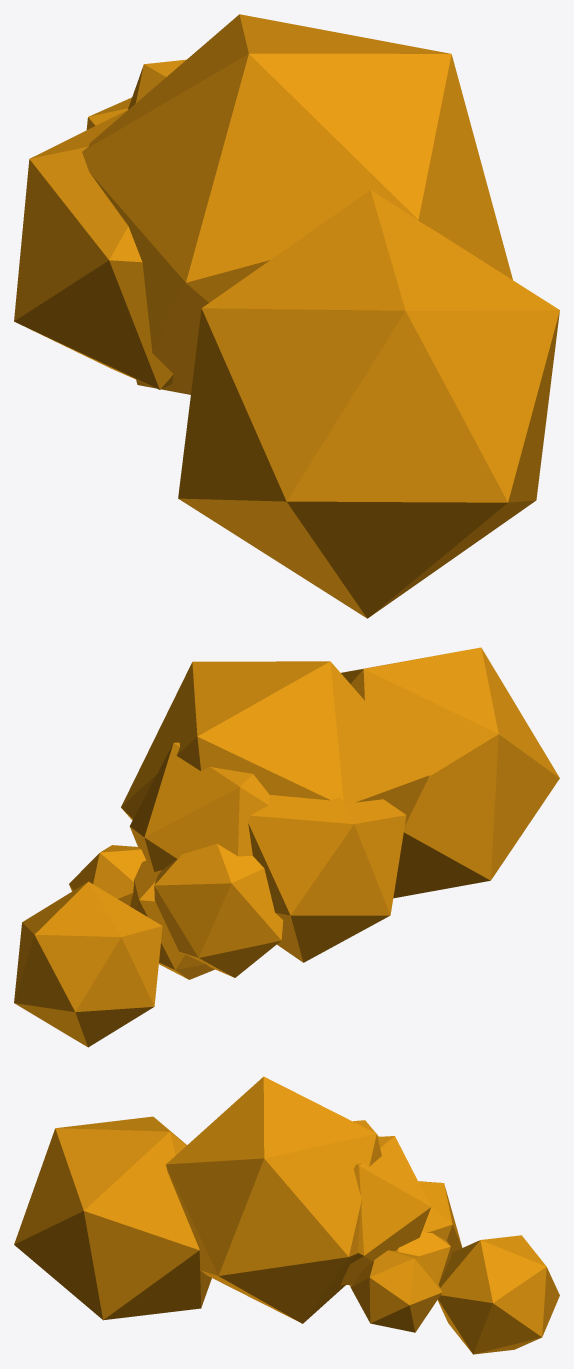
The model's file is poplarTree.gltf.
3 renders of one model, top to bottom at view 1: azimuth 30°, elevation 25°; view 2: azimuth 150°, elevation 25°; view 3: azimuth 270°, elevation 25°, orthographic. The views are drawn at different scales.
Visible parts, largest first — view 1: Icosphere.002, Icosphere.003, Icosphere.005, Icosphere.004; view 2: Icosphere.002, Icosphere.003, Icosphere.005, Icosphere, Icosphere.006, Icosphere.004, Icosphere.007, Icosphere.001; view 3: Icosphere.003, Icosphere.002, Icosphere, Icosphere.004, Icosphere.007, Icosphere.006, Icosphere.001.
Boxes of the visible parts, bbox=[...] form: Icosphere.002: bbox=[178, 190, 559, 618]; Icosphere.003: bbox=[82, 14, 512, 394]; Icosphere.005: bbox=[14, 109, 173, 389]; Icosphere.004: bbox=[128, 59, 186, 109]; Icosphere.002: bbox=[341, 647, 559, 898]; Icosphere.003: bbox=[121, 661, 429, 825]; Icosphere.005: bbox=[248, 795, 406, 962]; Icosphere: bbox=[14, 881, 162, 1047]; Icosphere.006: bbox=[154, 844, 284, 977]; Icosphere.004: bbox=[129, 742, 269, 871]; Icosphere.007: bbox=[69, 845, 146, 905]; Icosphere.001: bbox=[130, 860, 214, 979]; Icosphere.003: bbox=[166, 1076, 381, 1323]; Icosphere.002: bbox=[14, 1116, 211, 1320]; Icosphere: bbox=[437, 1235, 559, 1354]; Icosphere.004: bbox=[340, 1136, 430, 1285]; Icosphere.007: bbox=[350, 1250, 442, 1332]; Icosphere.006: bbox=[418, 1181, 462, 1255]; Icosphere.001: bbox=[349, 1230, 450, 1286].
Size of the model in its own units: 4.93 by 4.96 by 10.23.
